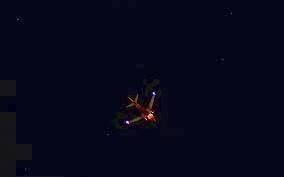Plane: (106, 81, 174, 132)
